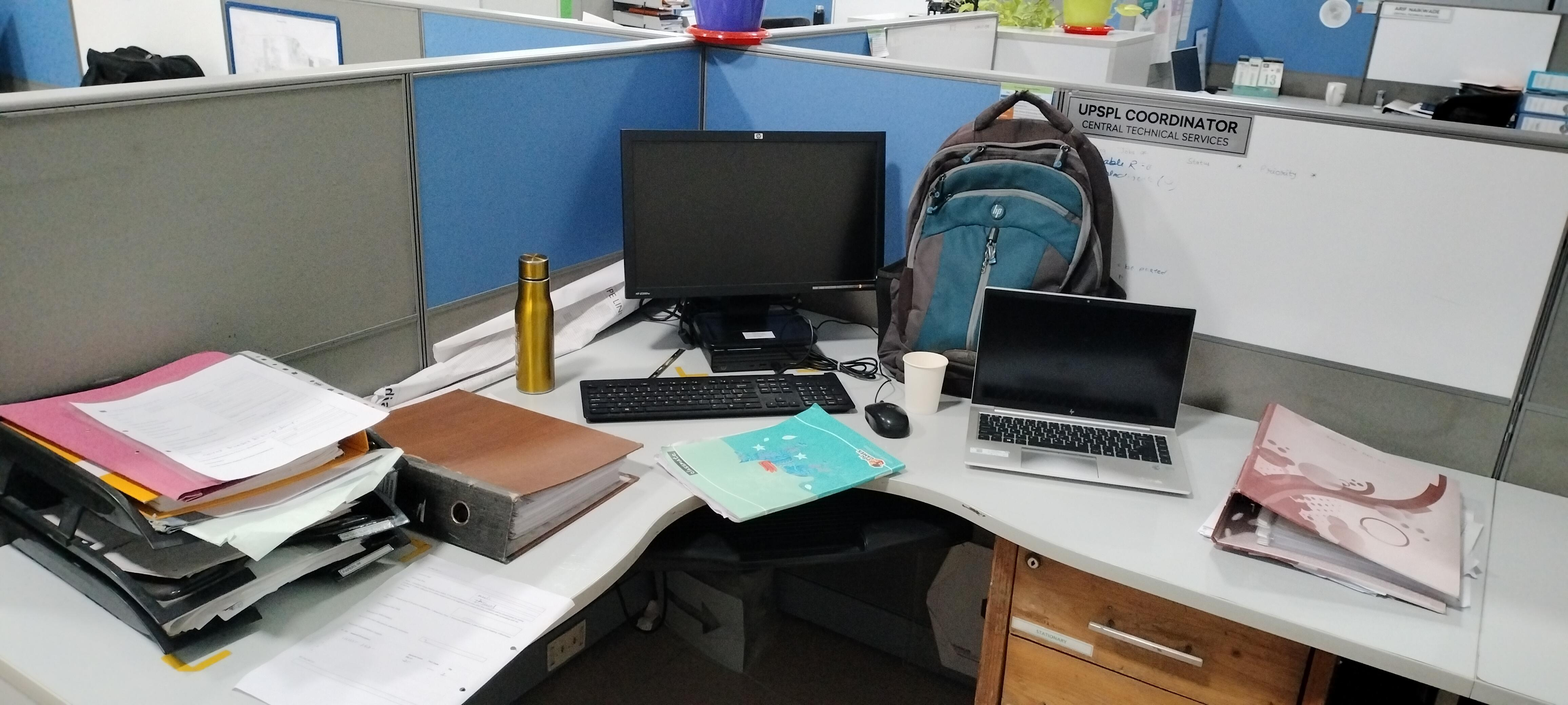bag: (890, 93, 1096, 302)
book: (643, 418, 898, 524)
bottle: (502, 244, 565, 399)
desktop: (606, 117, 892, 361)
file: (1197, 390, 1481, 633), (388, 384, 648, 574)
filetray: (2, 347, 407, 667)
keyboard: (574, 367, 861, 428)
laptop: (957, 274, 1204, 505)
mouse: (859, 396, 913, 442)
mug: (899, 345, 948, 424)
nameplate: (1069, 86, 1260, 162)
page: (216, 593, 635, 702)
